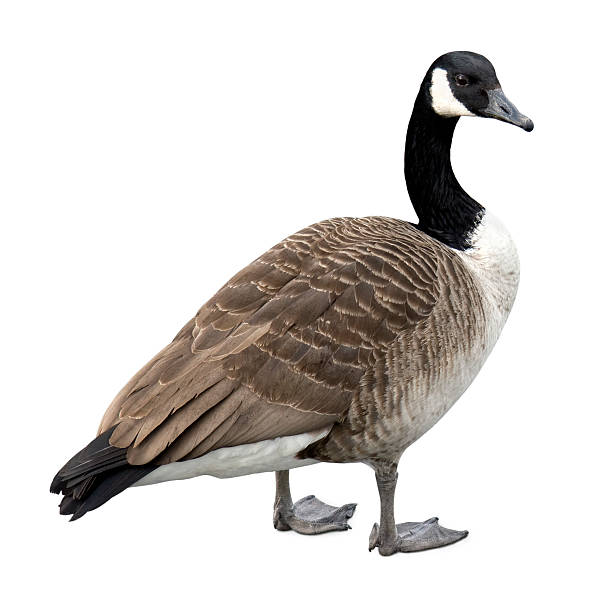goose: (47, 48, 537, 560)
